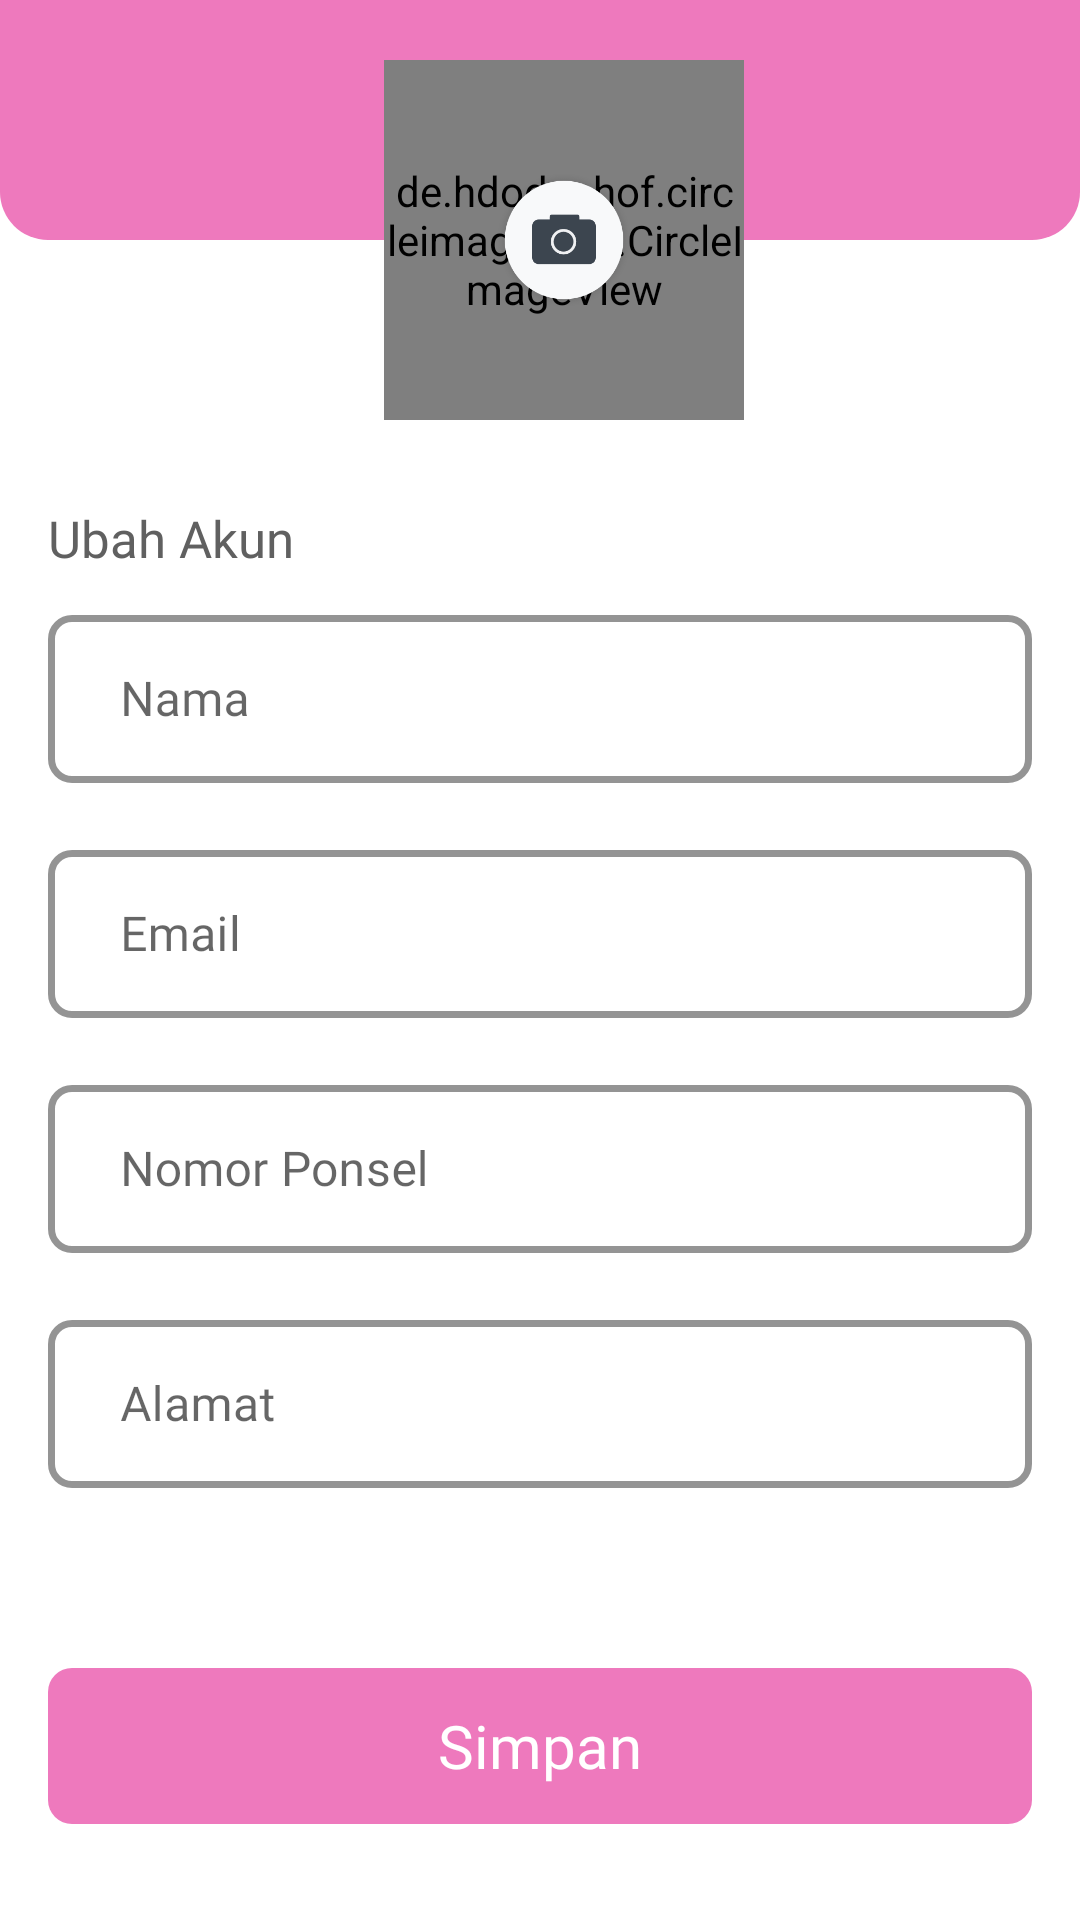

Point at icon controls on the screen. Image size 1080px x 1920px, points as (x,y).
change photo: (564,243)
